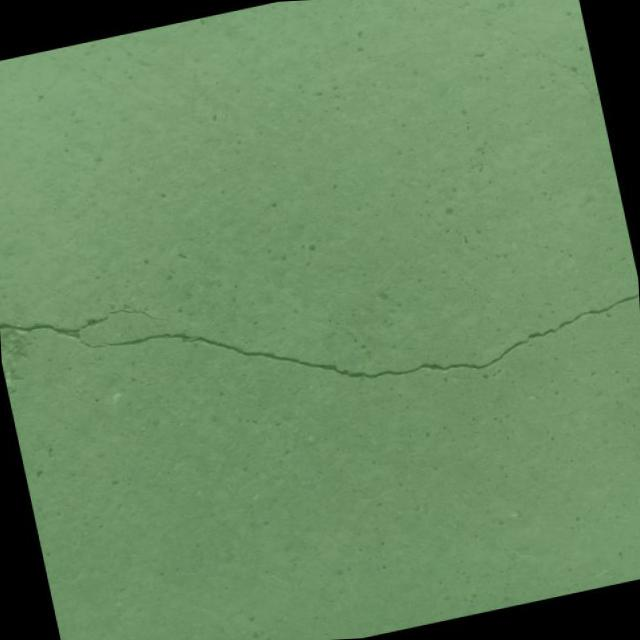crack: (0, 190, 640, 467)
